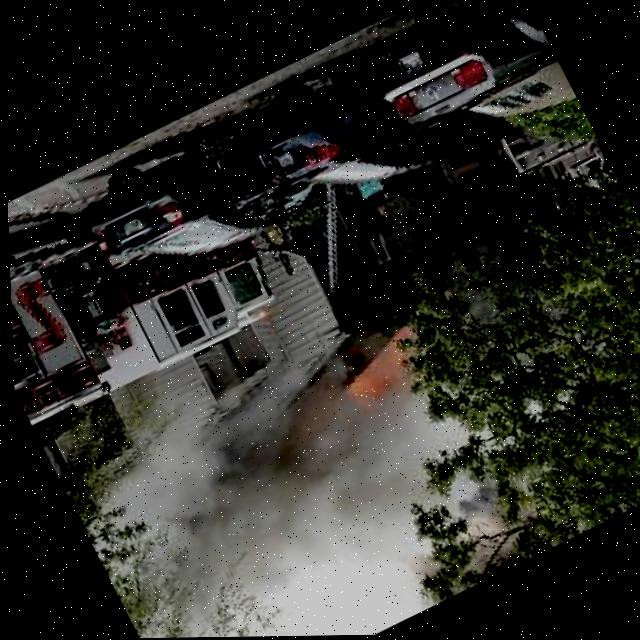Fire: (327, 323, 439, 417)
Smoke: (92, 332, 466, 639)
